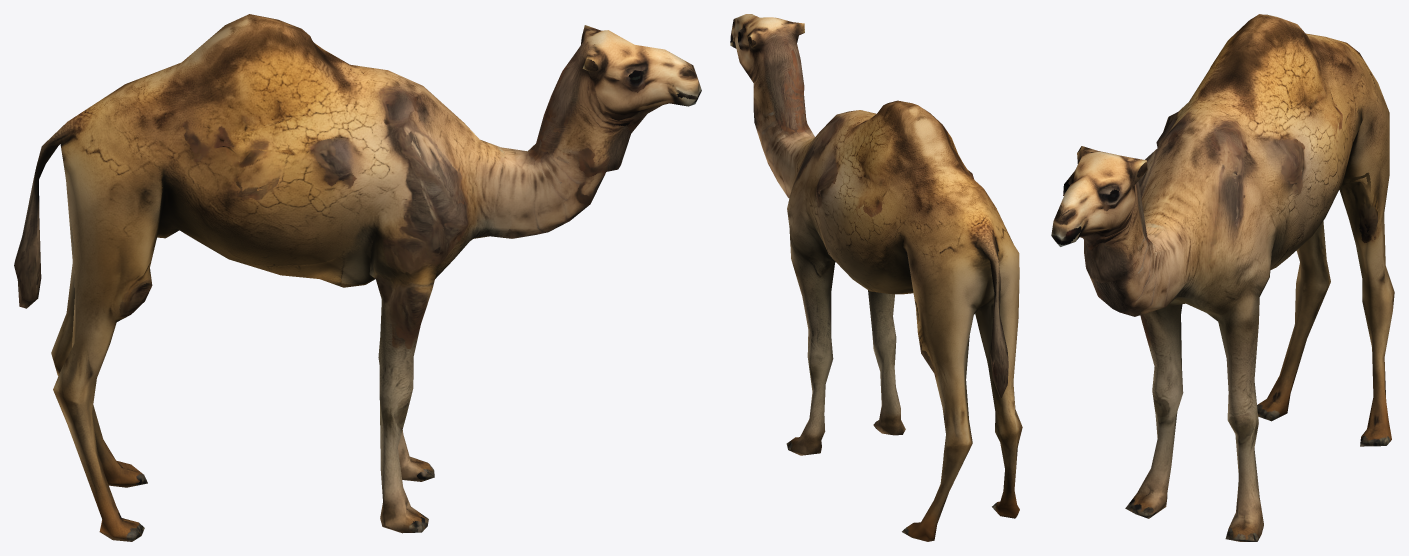
File: camel_husk_single_1500.glb
3 views of the same model, side by side, from view 1: azimuth 30°, elevation 25°; view 2: azimuth 150°, elevation 25°; view 3: azimuth 270°, elevation 25° (orthographic). The views are drawn at different scales.
Size of the model in its own units: 0.8631 by 0.7741 by 0.5253.
Materials: 1 (1 with a texture image).
